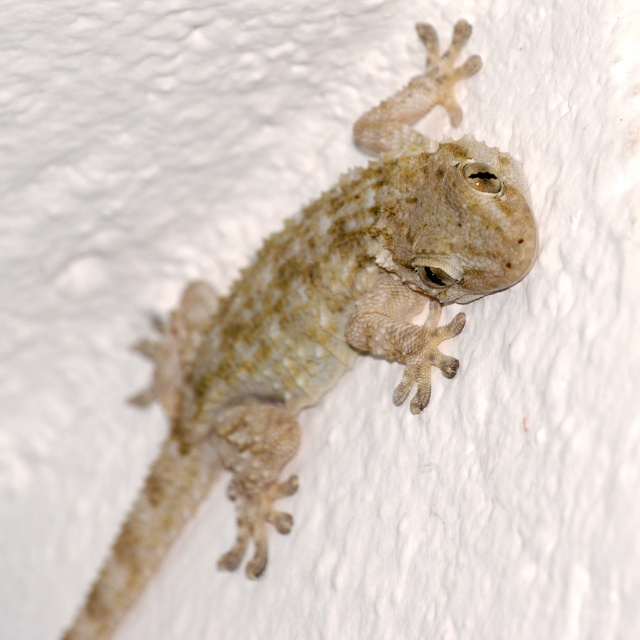Lizard: (61, 18, 539, 640)
